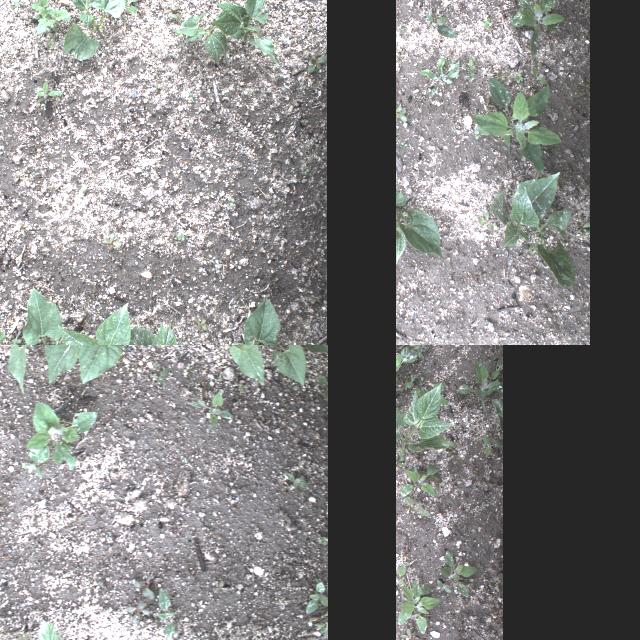crop: (490, 170, 578, 290), (34, 302, 168, 345), (214, 0, 278, 70), (221, 293, 307, 345), (396, 382, 456, 455), (0, 283, 64, 345), (59, 0, 123, 61), (396, 187, 445, 265), (172, 12, 228, 64), (193, 345, 265, 385), (78, 345, 143, 385), (44, 345, 107, 384), (252, 345, 306, 387), (29, 0, 71, 45), (127, 326, 224, 345), (0, 345, 28, 393), (32, 617, 64, 640), (300, 345, 327, 357)
weed: (472, 78, 562, 170), (26, 399, 100, 467), (456, 356, 502, 428), (509, 0, 564, 55), (398, 578, 442, 632), (436, 550, 478, 600), (417, 56, 459, 100), (203, 384, 235, 428), (399, 464, 438, 498), (303, 576, 327, 622), (31, 77, 63, 106), (426, 9, 458, 37), (396, 345, 411, 391), (156, 582, 174, 620), (278, 470, 312, 490), (160, 0, 184, 24), (148, 364, 170, 390), (405, 495, 431, 517), (11, 168, 41, 186), (303, 52, 325, 76), (132, 577, 152, 603), (125, 599, 148, 621), (20, 462, 44, 482), (482, 434, 502, 458), (571, 78, 589, 104), (402, 345, 432, 360), (462, 56, 478, 84), (99, 228, 121, 248), (396, 373, 417, 393), (210, 576, 228, 598), (477, 208, 495, 228), (396, 560, 407, 592), (396, 96, 406, 131), (276, 508, 294, 526), (164, 622, 181, 640), (190, 316, 208, 332), (84, 576, 108, 588), (436, 578, 452, 594), (478, 474, 494, 490), (145, 80, 163, 94), (224, 188, 236, 208), (7, 0, 24, 14), (399, 626, 416, 640), (575, 221, 589, 237), (432, 477, 448, 491), (314, 373, 324, 395), (125, 0, 137, 18), (534, 66, 546, 84), (60, 513, 86, 521), (15, 628, 32, 640), (316, 618, 326, 638), (137, 128, 151, 142), (75, 179, 87, 195), (488, 578, 500, 594), (86, 281, 96, 299), (480, 16, 492, 30), (314, 534, 326, 548), (102, 530, 116, 542), (190, 398, 206, 408), (480, 98, 494, 109), (174, 230, 186, 242), (512, 72, 524, 84), (491, 72, 509, 80), (178, 454, 188, 466), (396, 453, 403, 468), (238, 382, 248, 392), (419, 376, 425, 392), (152, 359, 162, 368), (396, 51, 403, 63), (180, 363, 188, 373), (442, 393, 448, 405), (215, 373, 222, 382), (399, 141, 409, 147), (475, 129, 481, 139), (0, 523, 9, 529), (450, 127, 460, 131), (396, 612, 399, 618)
